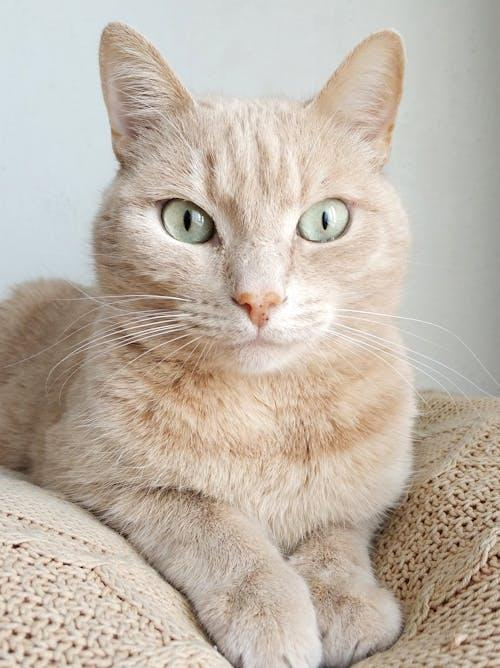kedo: (3, 29, 413, 667)
